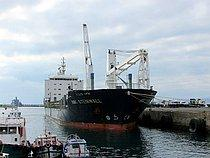Ship: (42, 21, 161, 137)
